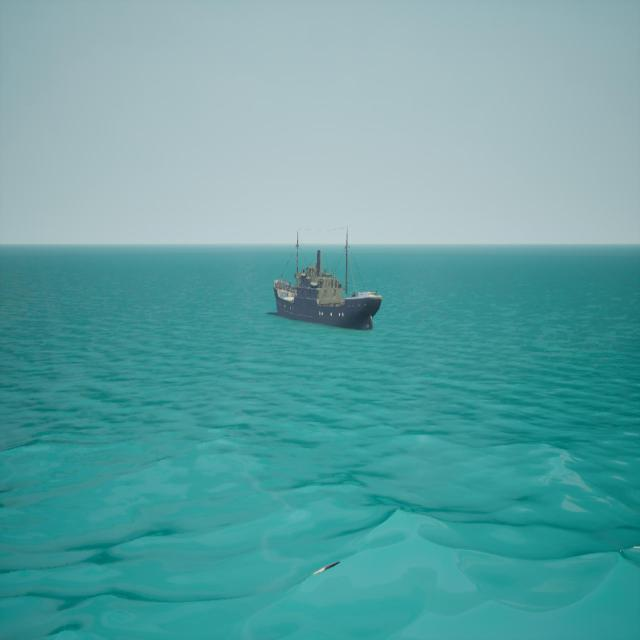fishing ship: (272, 229, 383, 334)
